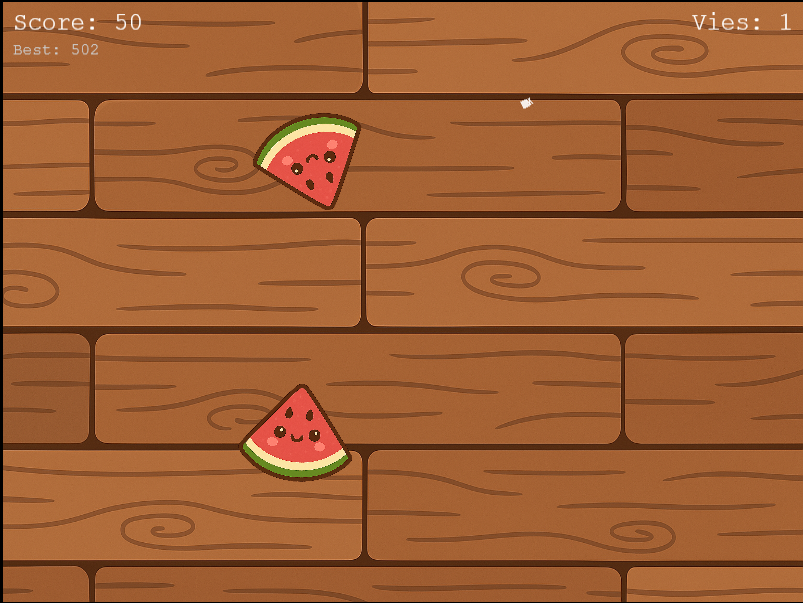fruit: (249, 105, 371, 217), (238, 378, 359, 487)
